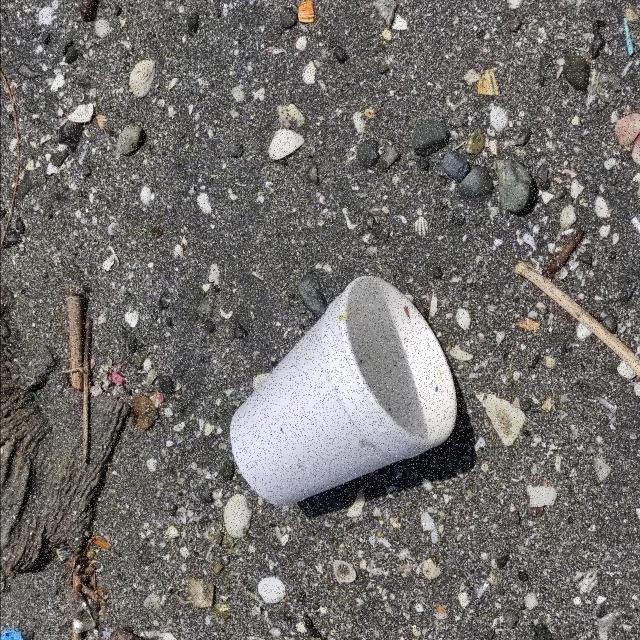styrofoam_waste: (232, 276, 462, 508)
